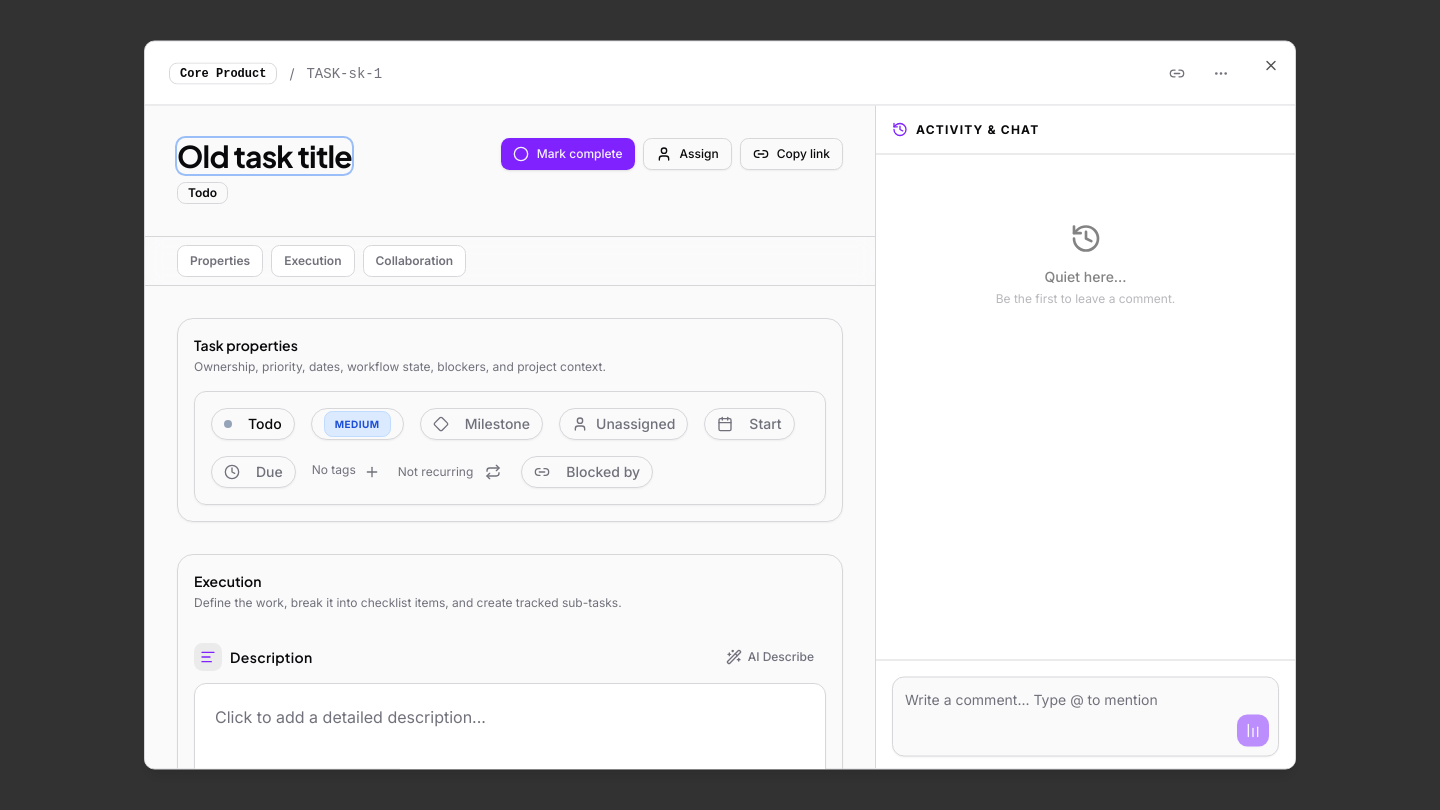
Test: TaskDetailsModal › edits and saves the task title
The image size is (1440, 810).
Click the button "Old task title" at (264, 156), box [177, 138, 352, 174]
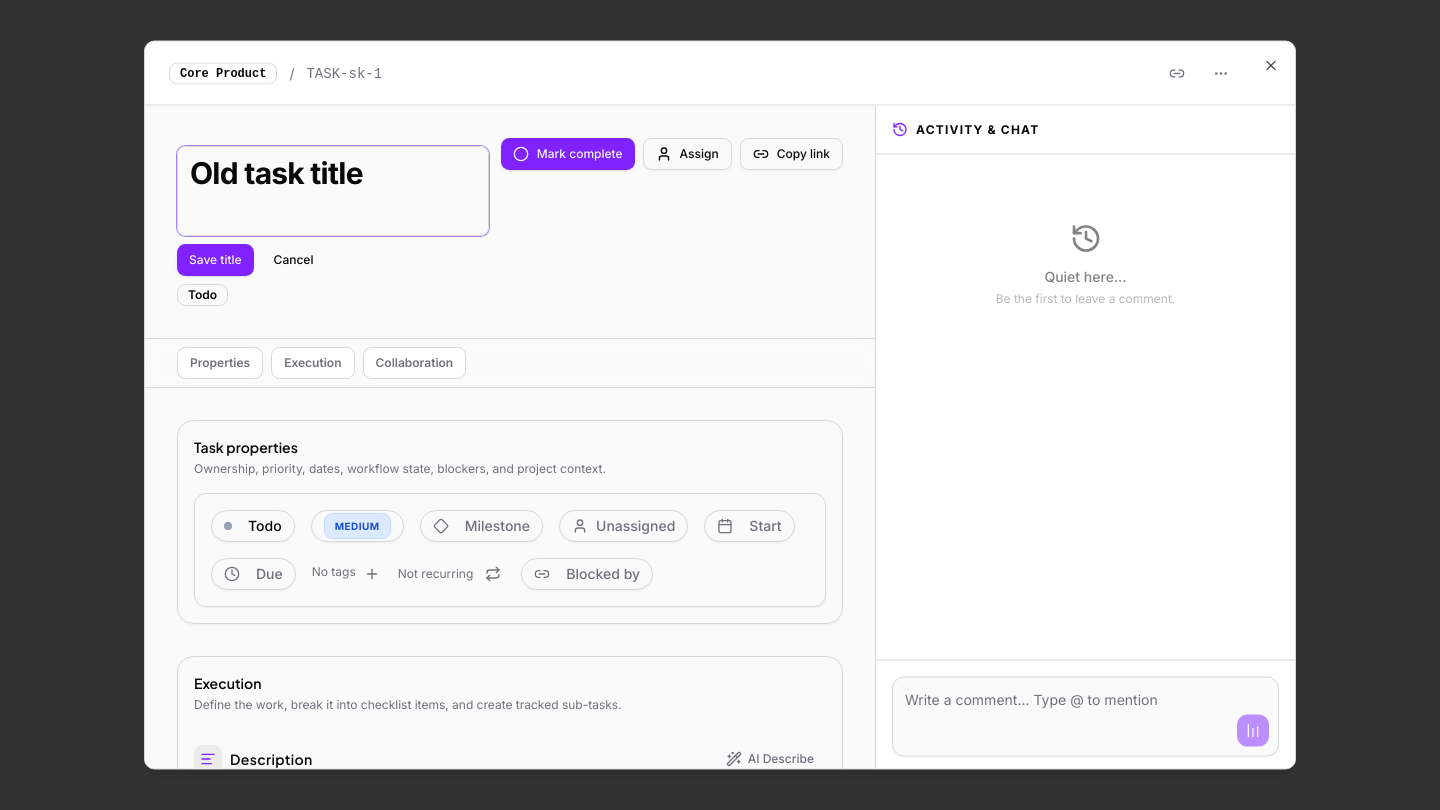
Replace the text in the text box showing "Old task title" with "Updated task title" at (333, 190), box [177, 146, 489, 236]
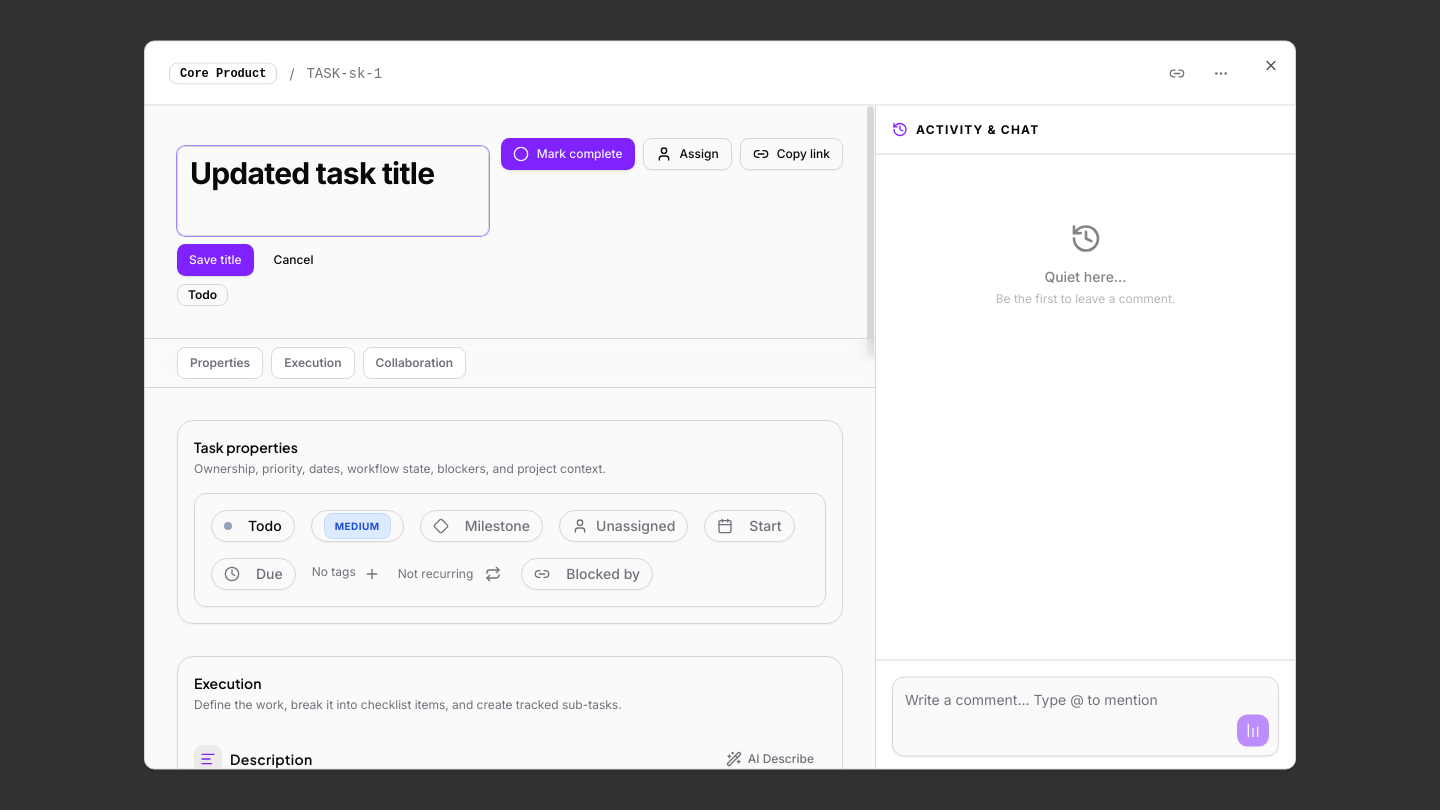
Click the button "Save title" at (215, 260), box [177, 244, 254, 276]
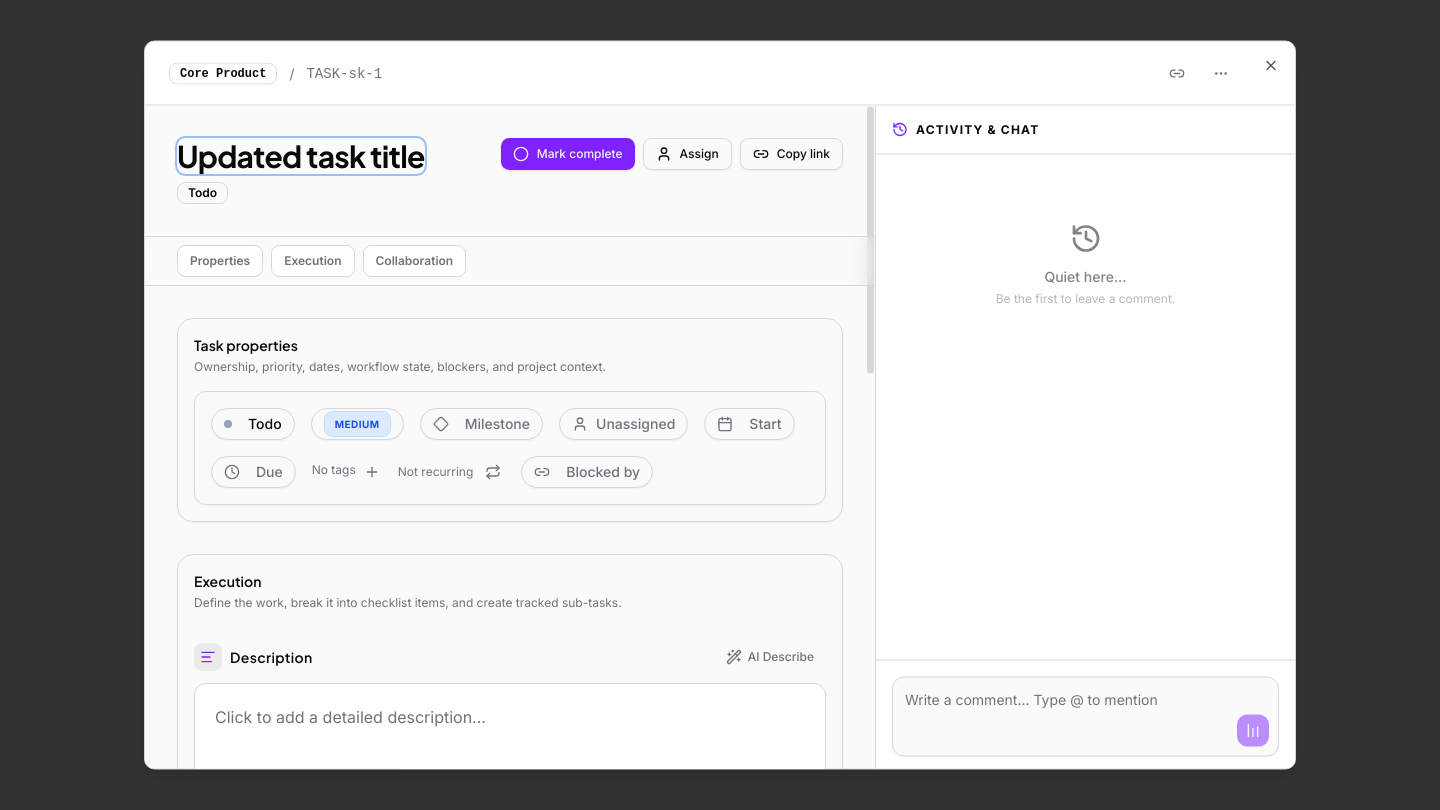
expect the button "Updated task title" is shown: met, box [177, 138, 425, 174]
